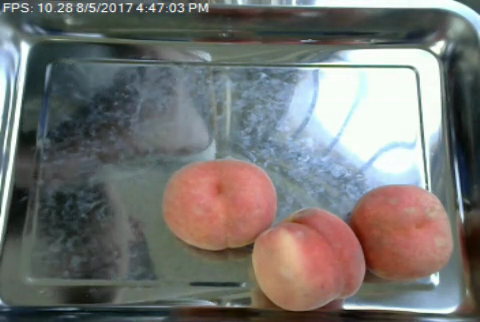Peach: (253, 209, 366, 311), (163, 157, 280, 251), (351, 184, 453, 280)
